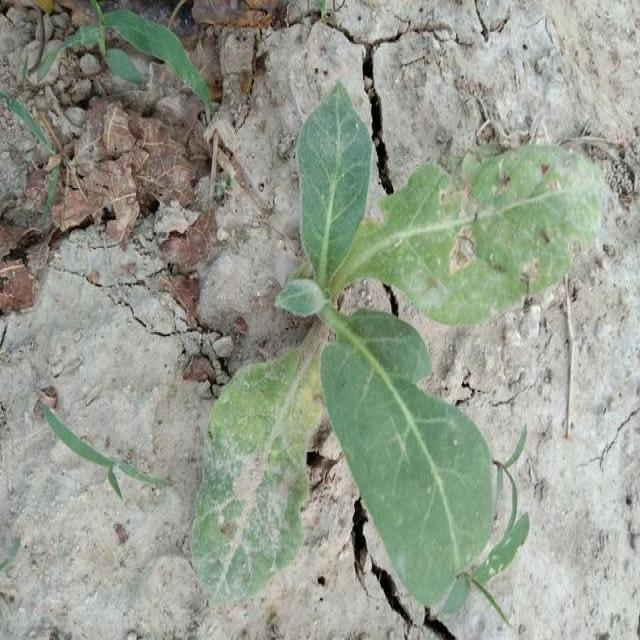crop: (196, 107, 608, 603)
